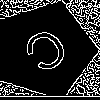C: (19, 25, 78, 83)
